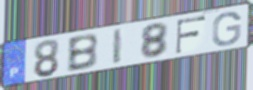8: (139, 21, 169, 61), (32, 38, 61, 78)
B: (66, 32, 100, 74)
F: (174, 14, 208, 56)
G: (211, 10, 243, 47)
I: (111, 27, 126, 66)
